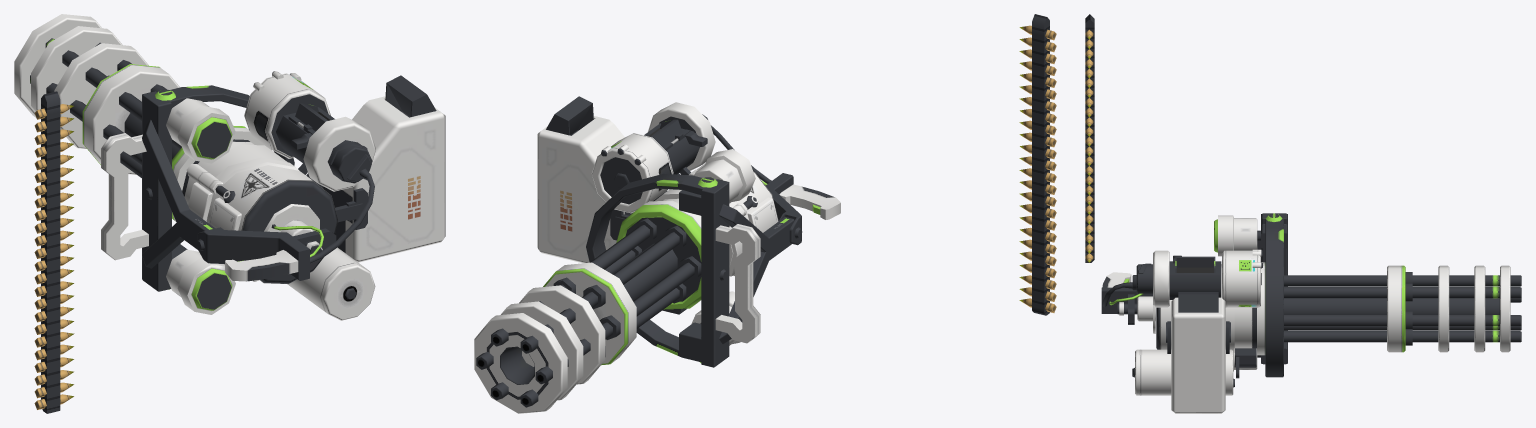
The model's file is nonomi.glb.
The picture shows the model from 3 angles, left to right: view 1: azimuth 30°, elevation 25°; view 2: azimuth 150°, elevation 25°; view 3: azimuth 270°, elevation 25°; orthographic projection. The views are drawn at different scales.
Visible parts, largest first — view 1: Nonomi_Original_Weapon; view 2: Nonomi_Original_Weapon; view 3: Nonomi_Original_Weapon.
Part boxes in pixels (x1=…): Nonomi_Original_Weapon: x1=14, y1=14, x2=445, y2=413; Nonomi_Original_Weapon: x1=474, y1=14, x2=1056, y2=413; Nonomi_Original_Weapon: x1=1085, y1=14, x2=1521, y2=413.
Bounding box in the file's own units: 0.6654 × 0.4696 × 0.7044.
1 material, 1 textured.
